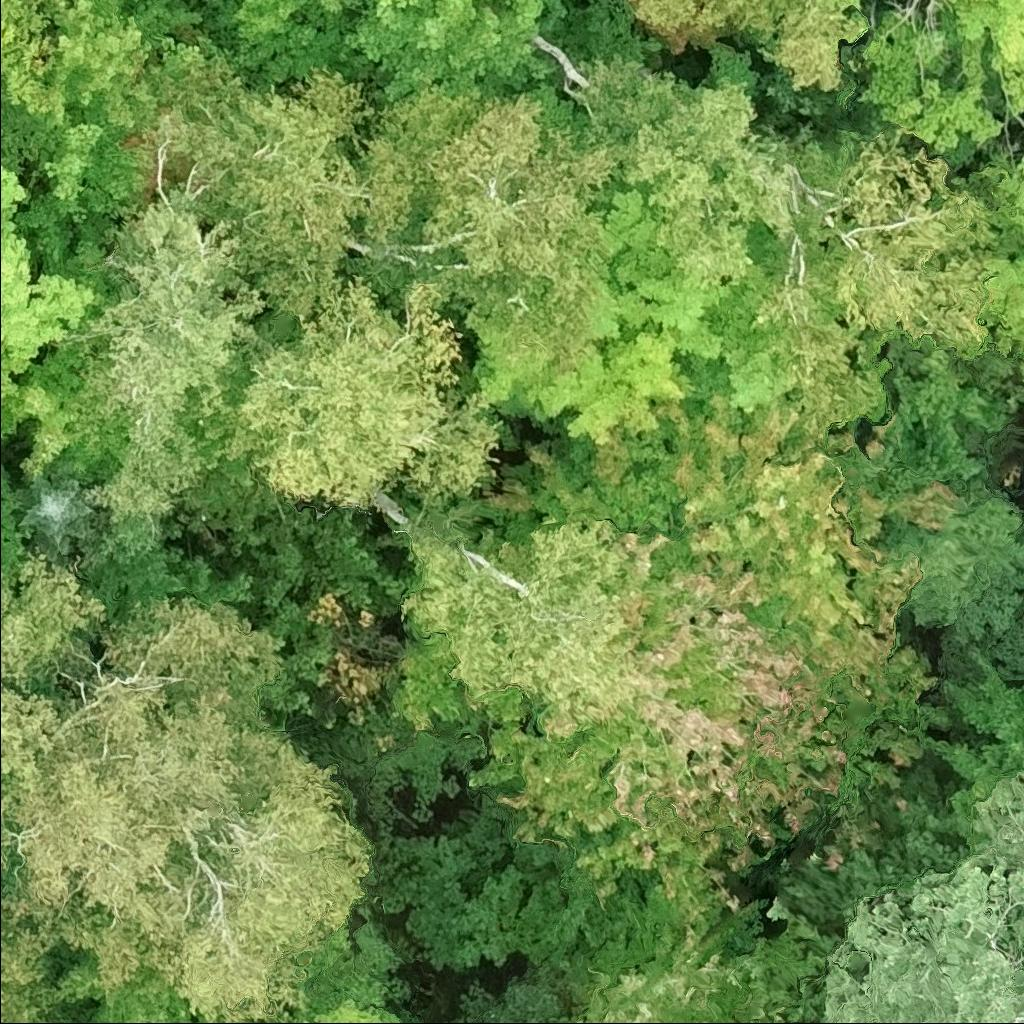crown: (461, 396, 964, 929), (459, 171, 797, 449), (0, 593, 286, 917), (86, 717, 376, 1023), (348, 77, 617, 370), (59, 182, 266, 527), (138, 53, 387, 317), (239, 273, 506, 511), (805, 764, 1023, 1023), (396, 510, 646, 731), (571, 51, 808, 284), (825, 125, 999, 358), (340, 0, 665, 108), (857, 0, 1023, 164), (0, 547, 110, 792), (35, 0, 215, 142), (0, 167, 112, 395), (18, 116, 155, 290), (624, 0, 873, 95), (569, 914, 751, 1023), (926, 646, 1023, 842), (879, 349, 1013, 488), (0, 346, 118, 483), (180, 0, 358, 85), (980, 153, 1023, 364), (12, 471, 97, 561), (278, 997, 415, 1023), (1003, 858, 1023, 959), (367, 0, 421, 16), (0, 87, 3, 109)
